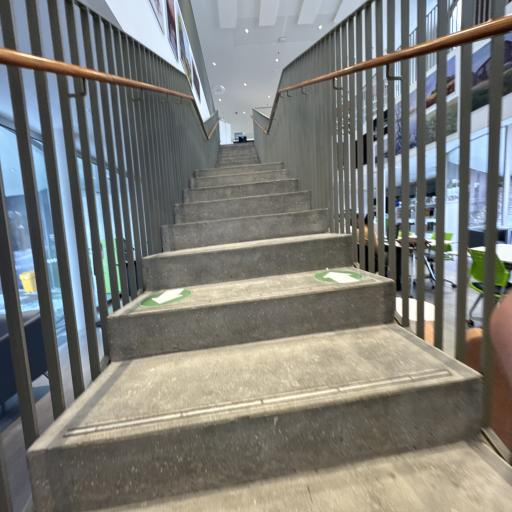Stairs: (27, 143, 512, 512)
